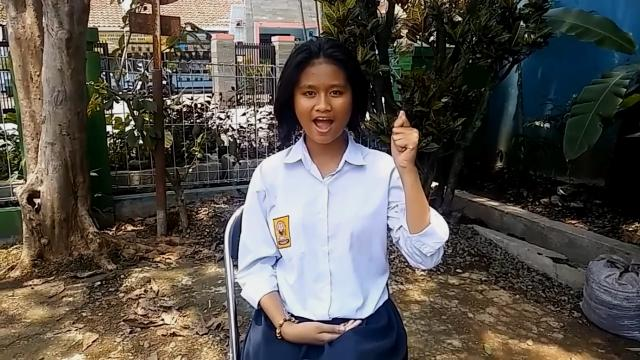A: (390, 106, 420, 174)
